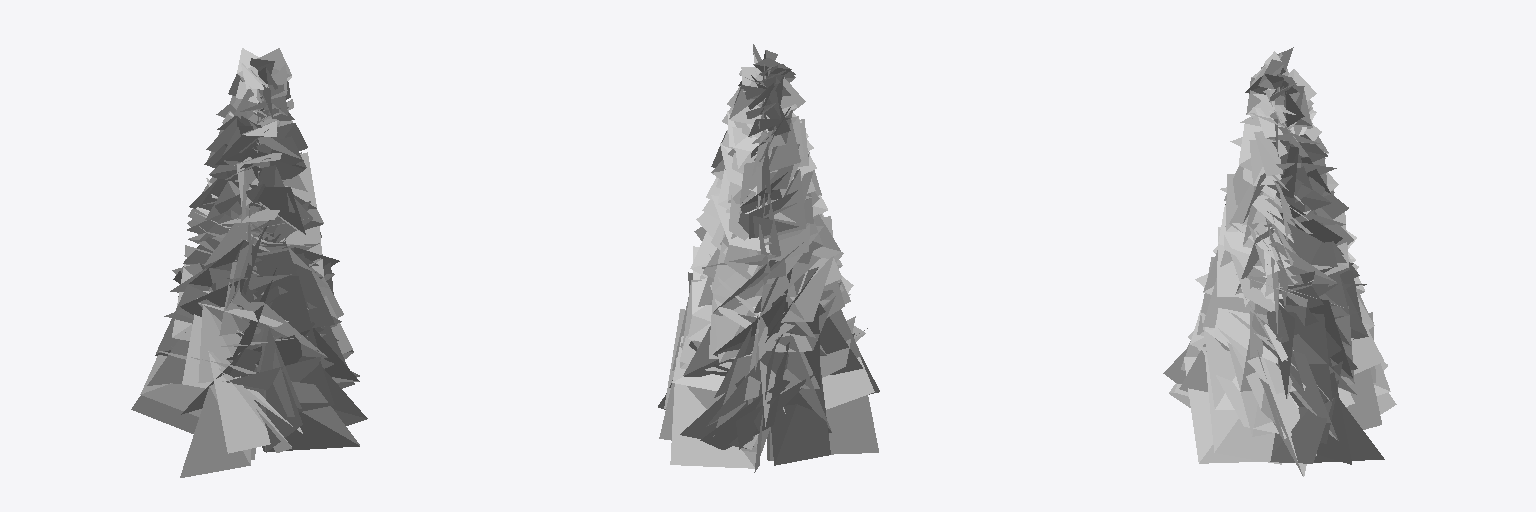
File: tall_narrow_tree.obj
The picture shows the model from 3 angles: view 1: azimuth 30°, elevation 25°; view 2: azimuth 150°, elevation 25°; view 3: azimuth 270°, elevation 25°; orthographic projection.
Parts seen in each view (by area): view 1: Tree; view 2: Tree; view 3: Tree.
Boxes of the visible parts, x1,y1,x2,y2 form: Tree: [131, 48, 367, 477]; Tree: [658, 44, 879, 472]; Tree: [1163, 47, 1396, 476].
Bounding box in the file's own units: 0.7846 × 1.64 × 0.8422.